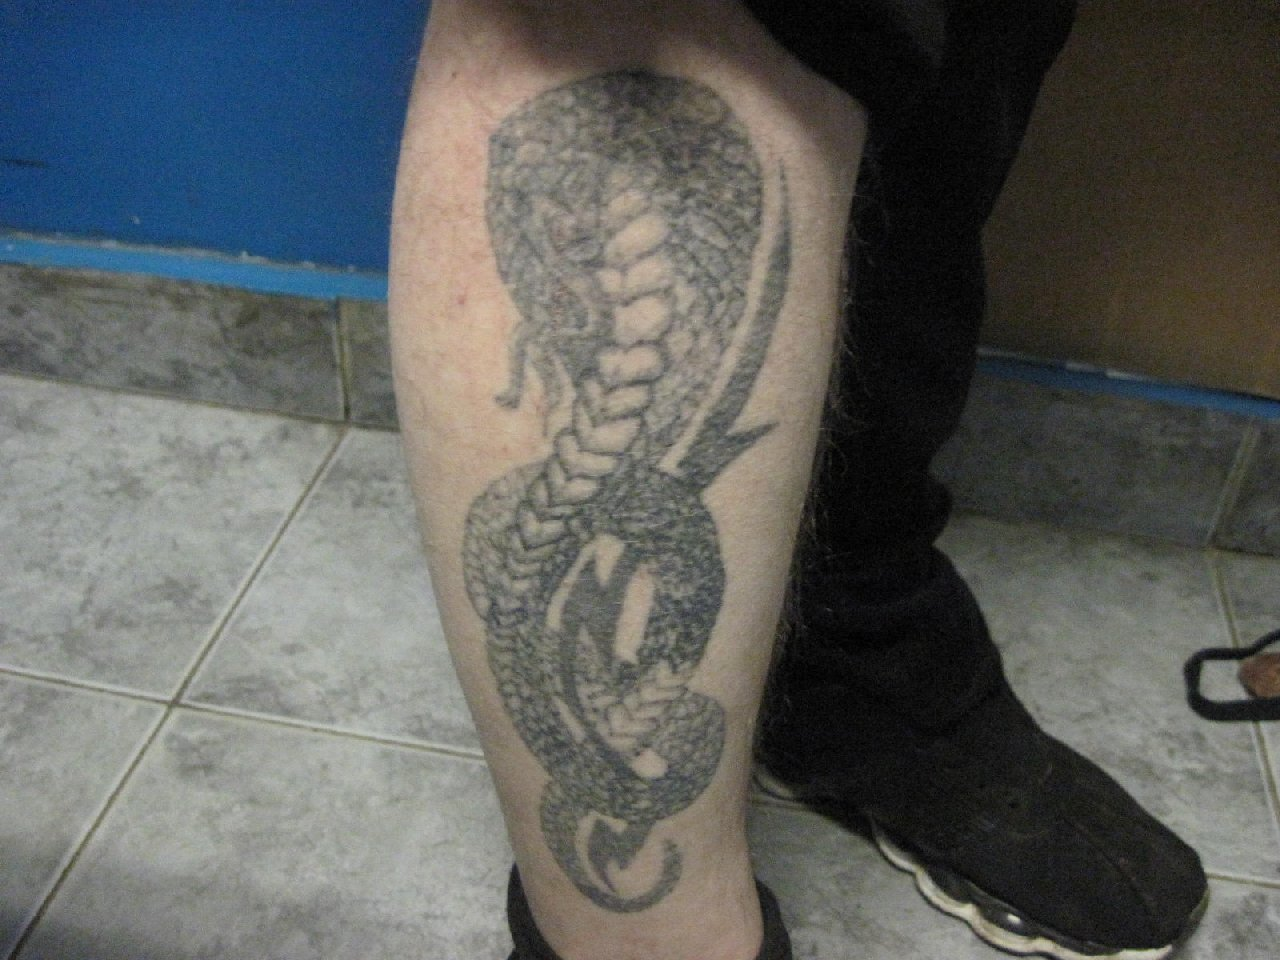tatu7_zmeya: (453, 48, 793, 960)
